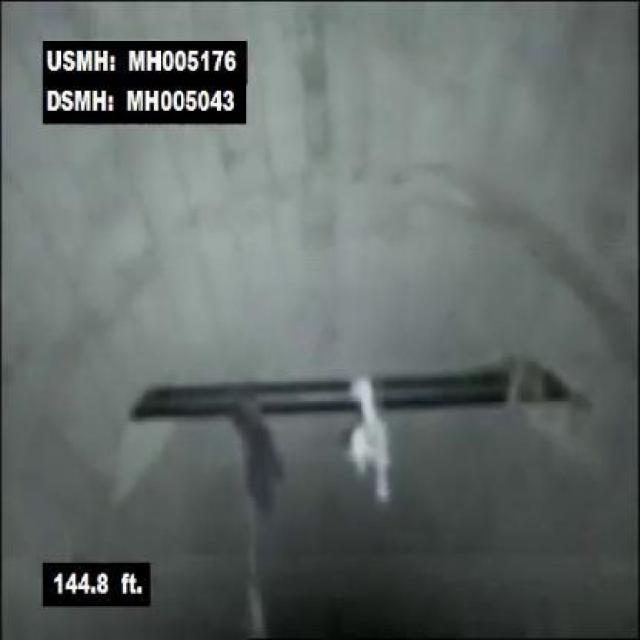Utility intrusion: (109, 340, 603, 448)
